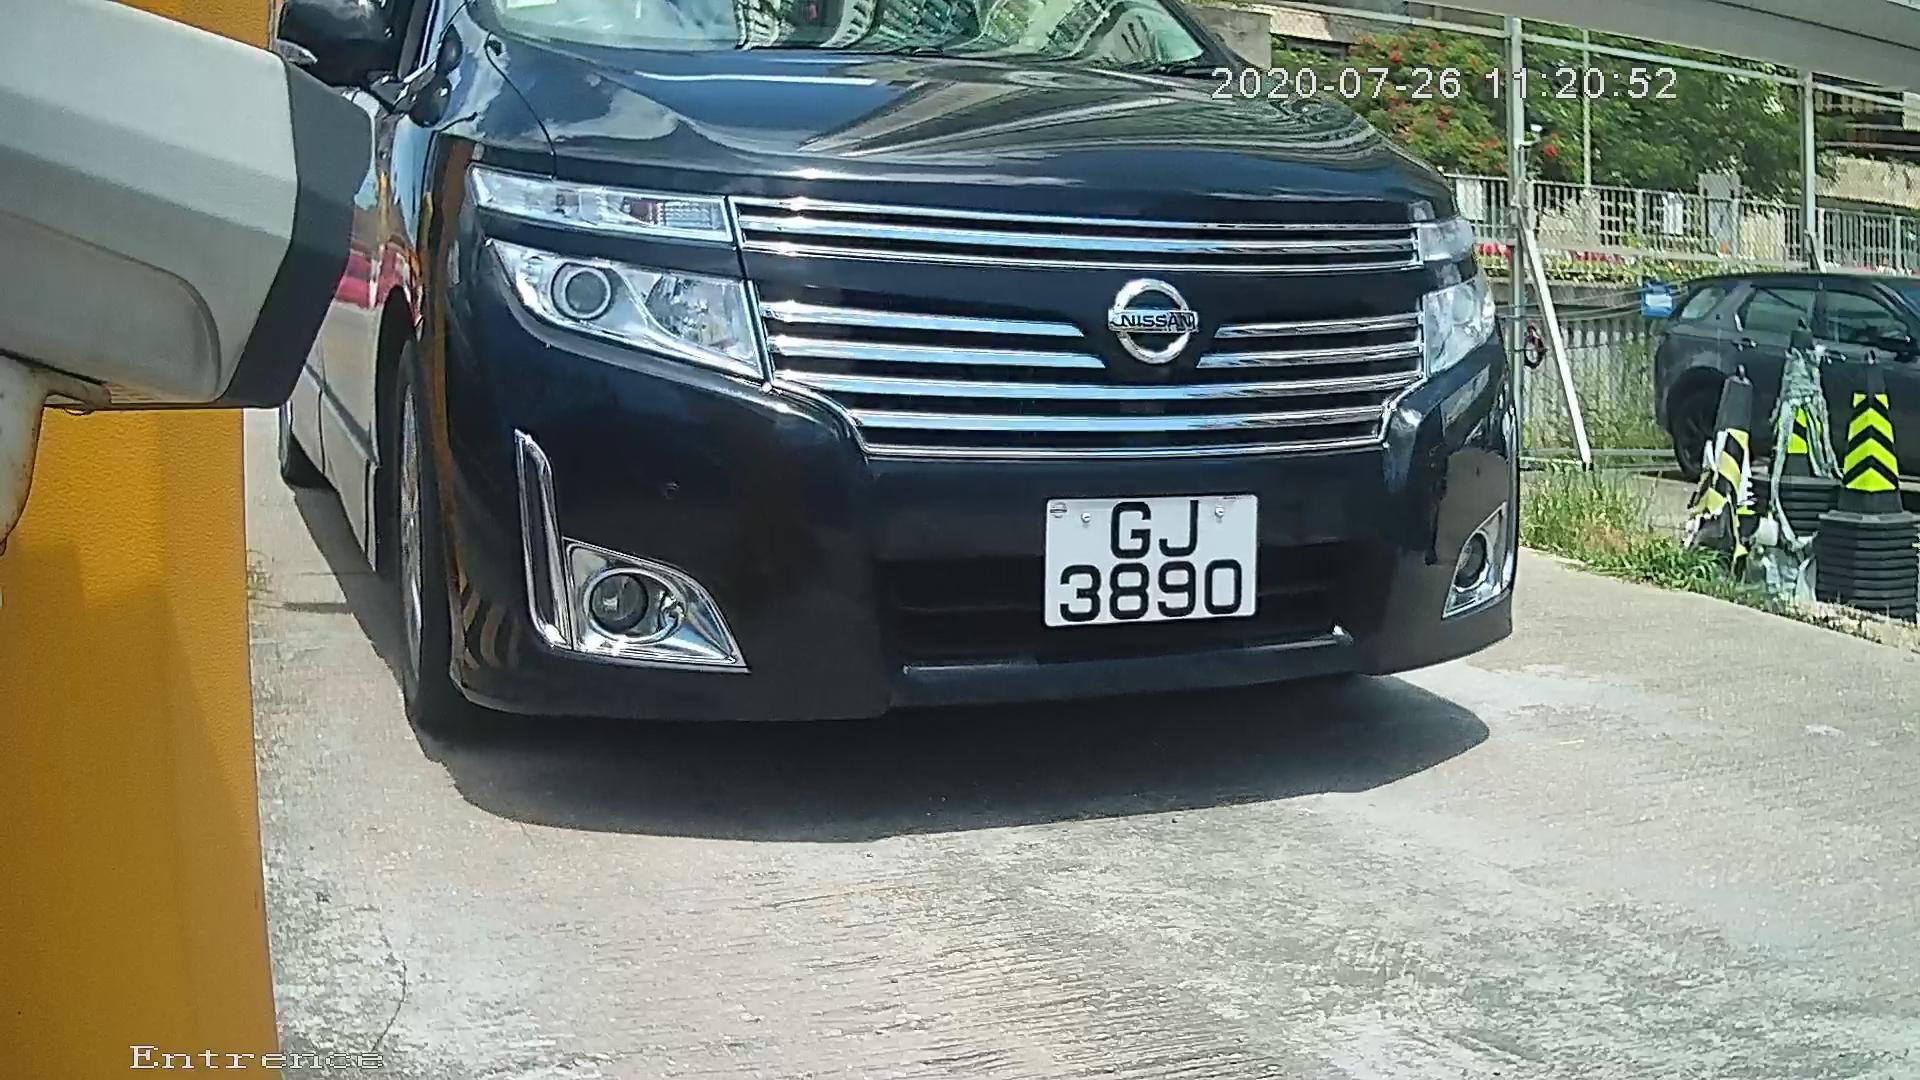privatecar: (189, 20, 1655, 820)
